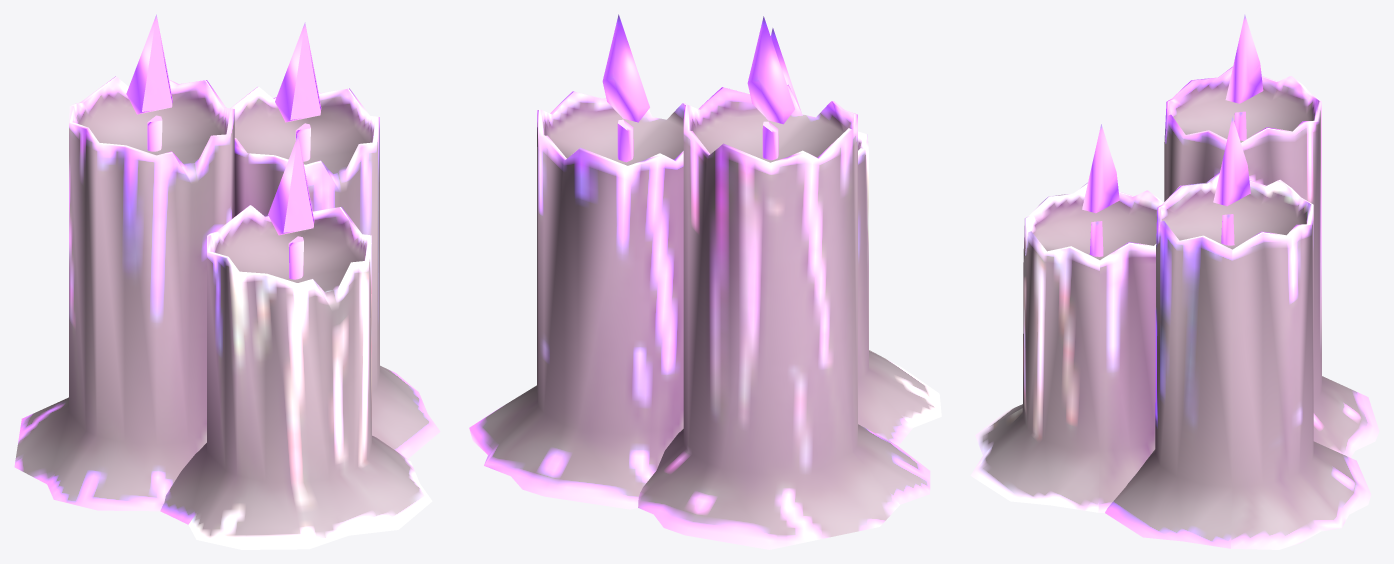
The model's file is candle03.glb.
3 renders of one model, left to right at view 1: azimuth 30°, elevation 25°; view 2: azimuth 150°, elevation 25°; view 3: azimuth 270°, elevation 25°, orthographic. The views are drawn at different scales.
Visible parts, largest first — view 1: Candle03_Halloween; view 2: Candle03_Halloween; view 3: Candle03_Halloween.
Part boxes in pixels (left/top/right/bottom): Candle03_Halloween: left=14, top=14, right=440, bottom=549; Candle03_Halloween: left=469, top=14, right=941, bottom=549; Candle03_Halloween: left=970, top=14, right=1379, bottom=549.
Bounding box in the file's own units: 0.6716 × 0.722 × 0.6437.
Materials: 1 (1 with a texture image).
